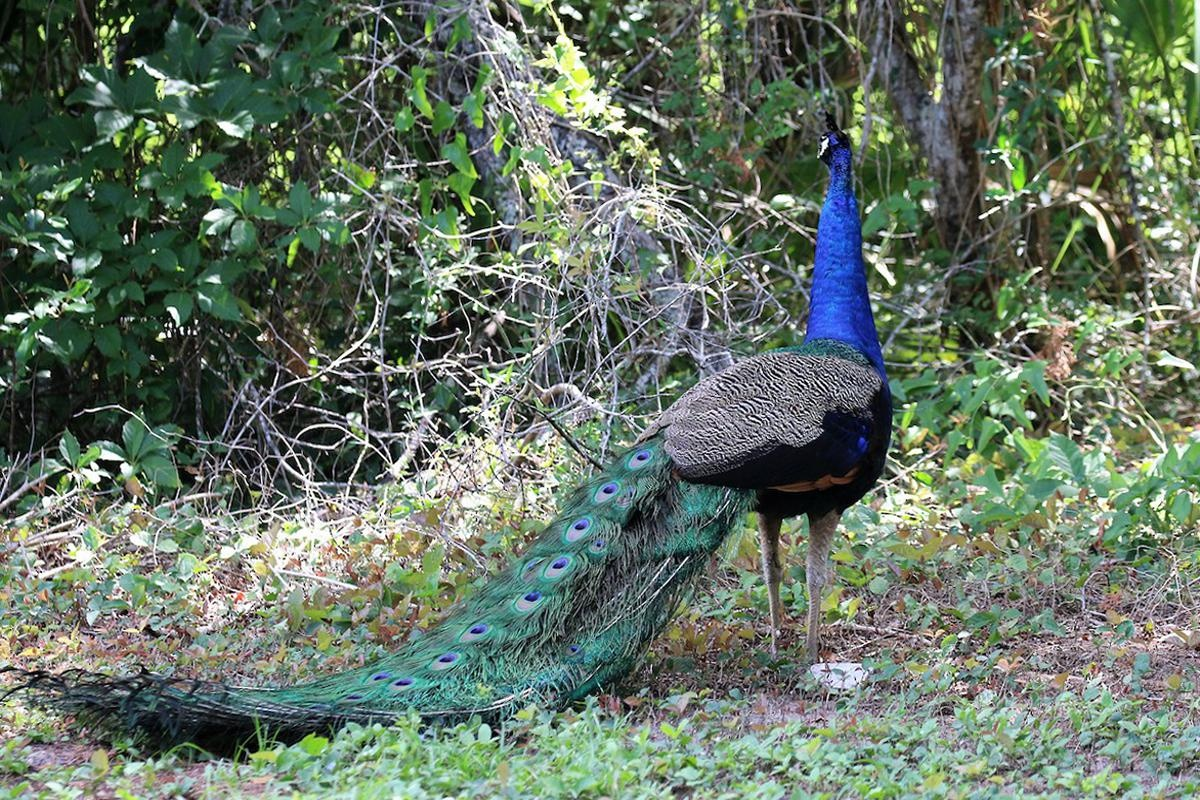peacock: (225, 70, 958, 800)
